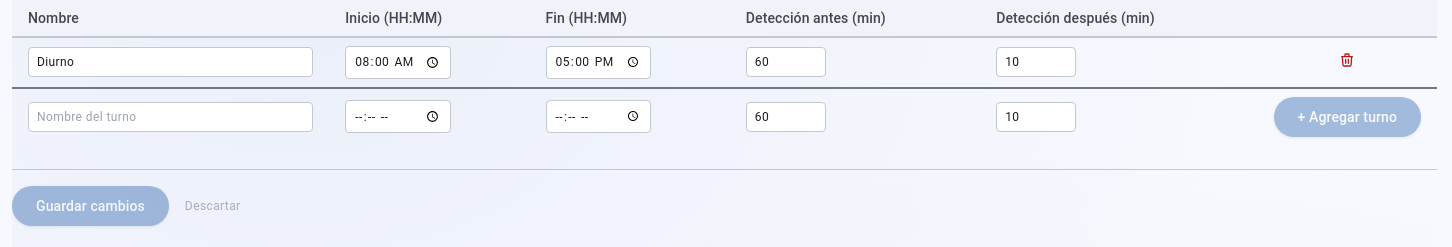
Test: ShiftsTab inline editing › clearing detection before minutes stores 0, not NaN
Check: the field showing "Diurno" is shown, box [28, 47, 313, 77]
Clear the number field named "Detección antes (min)". click: (786, 62)
box: [746, 47, 826, 77]
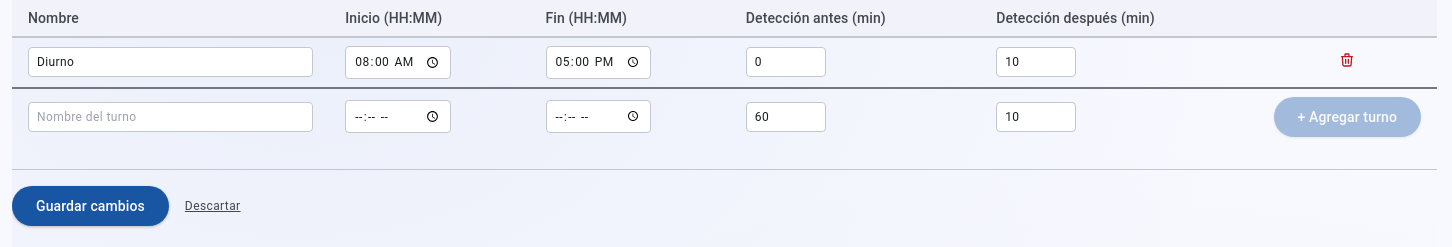
Check: the number field named "Detección antes (min)" holds "0", box [746, 47, 826, 77]
